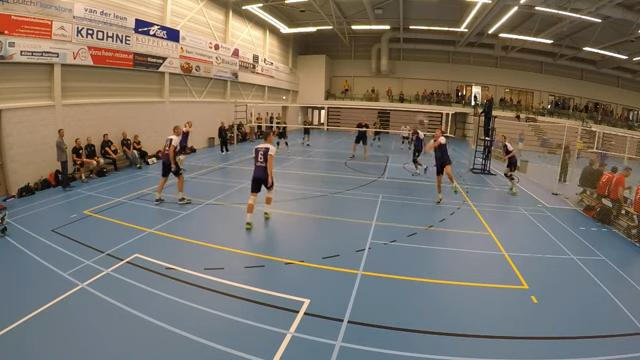alzata: (419, 127, 461, 208)
